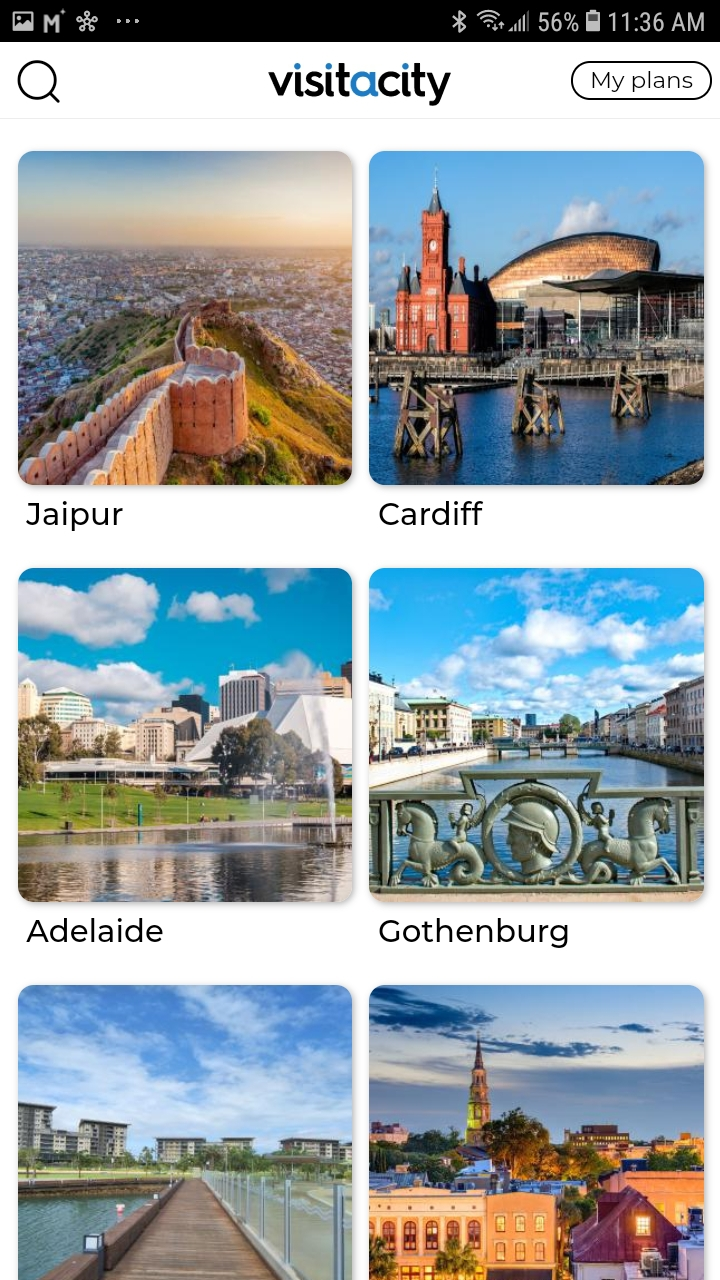Icon: (18, 61, 61, 104)
Image: (369, 151, 705, 486), (369, 568, 704, 903), (19, 568, 353, 903), (19, 152, 353, 486), (369, 985, 704, 1280), (19, 985, 352, 1280), (269, 63, 452, 107)
Text: (379, 918, 568, 949), (27, 917, 164, 943), (27, 500, 124, 532), (380, 500, 484, 526)
TextButton: (570, 62, 713, 102)
UpperTaskBar: (1, 1, 720, 43)
